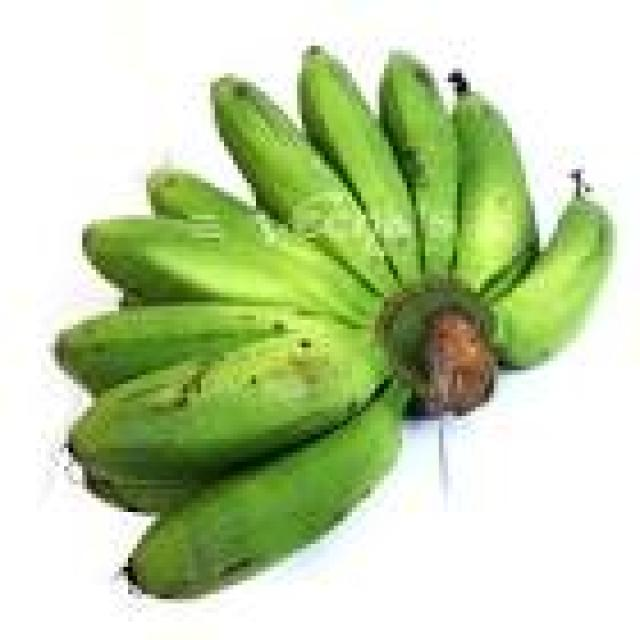banana: (128, 389, 406, 598), (69, 325, 388, 479), (211, 78, 397, 292), (83, 220, 379, 324), (298, 46, 420, 283), (55, 302, 315, 393), (494, 188, 612, 365), (453, 74, 539, 292), (380, 51, 457, 283), (147, 170, 269, 237), (83, 476, 210, 511)
